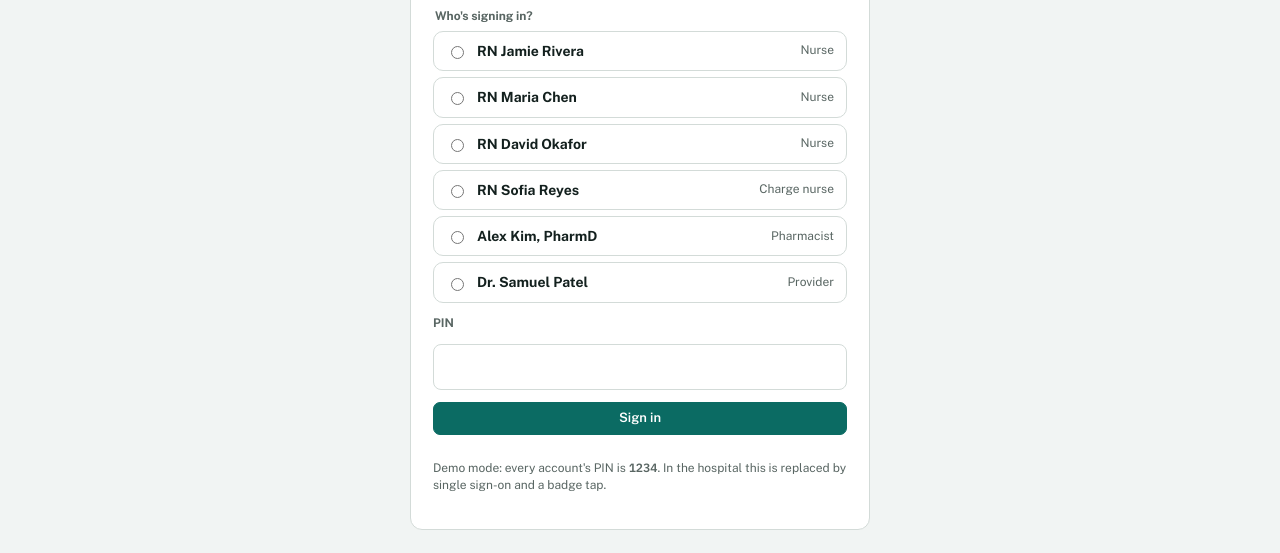
Scenario: Safer alternatives and look-alike names › offers acetaminophen when ibuprofen is not compatible
Click the radio button labelled "Dr. Samuel Patel Provider".
click(458, 284)  # box [451,278,464,291]
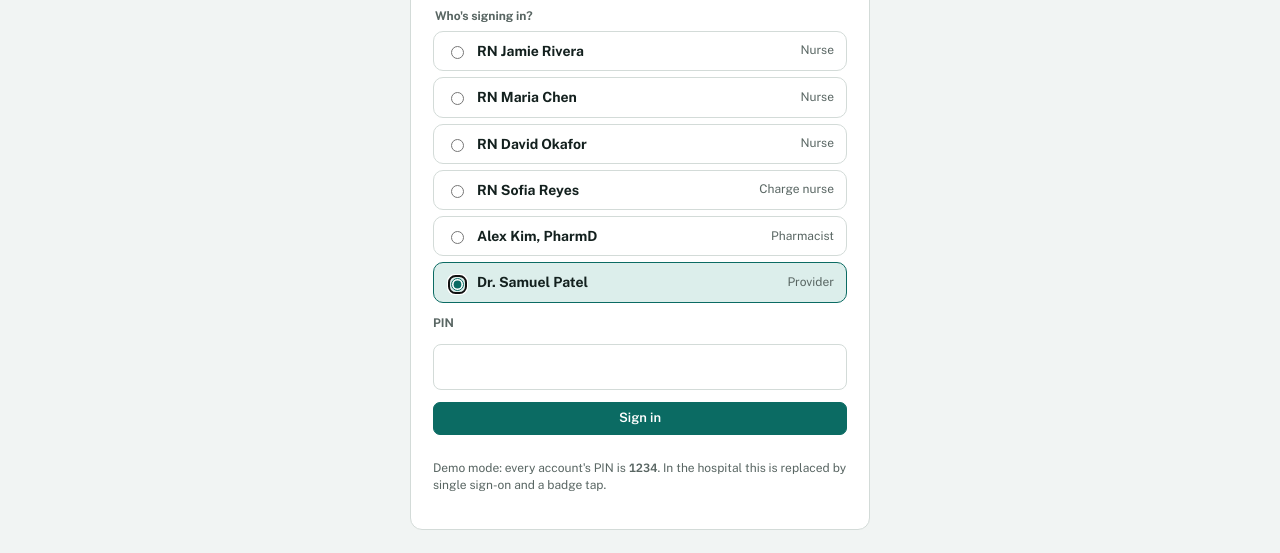
Type "1234" into the password field labelled "PIN".
click(640, 367); type("1234")  # box [433,344,847,390]
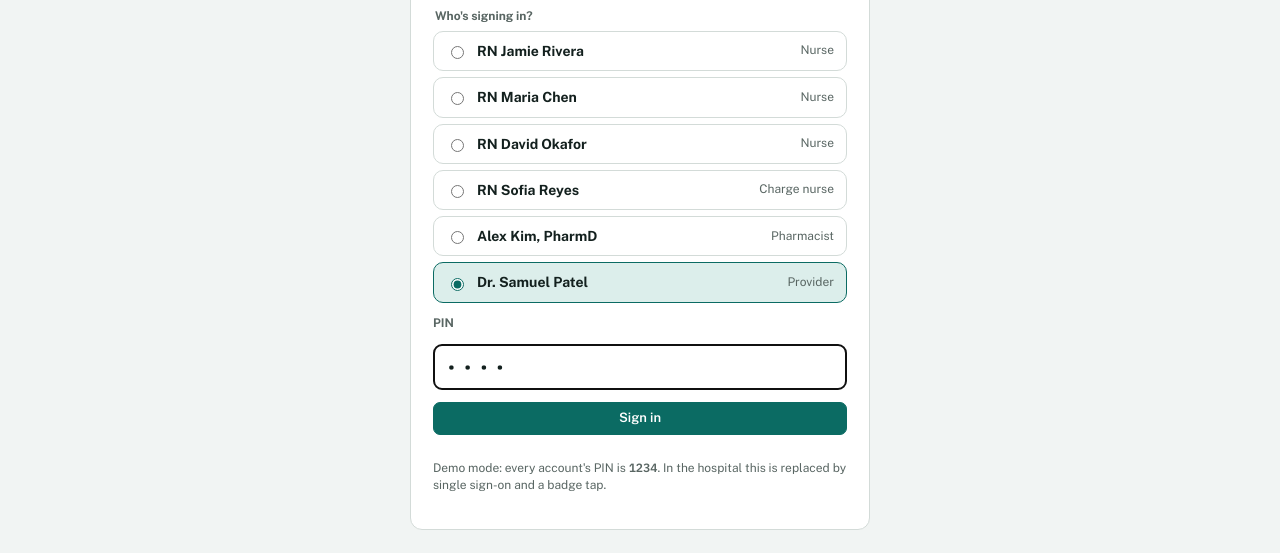
Click the button "Sign in".
click(640, 419)  # box [433,402,847,435]
(page scrolled)
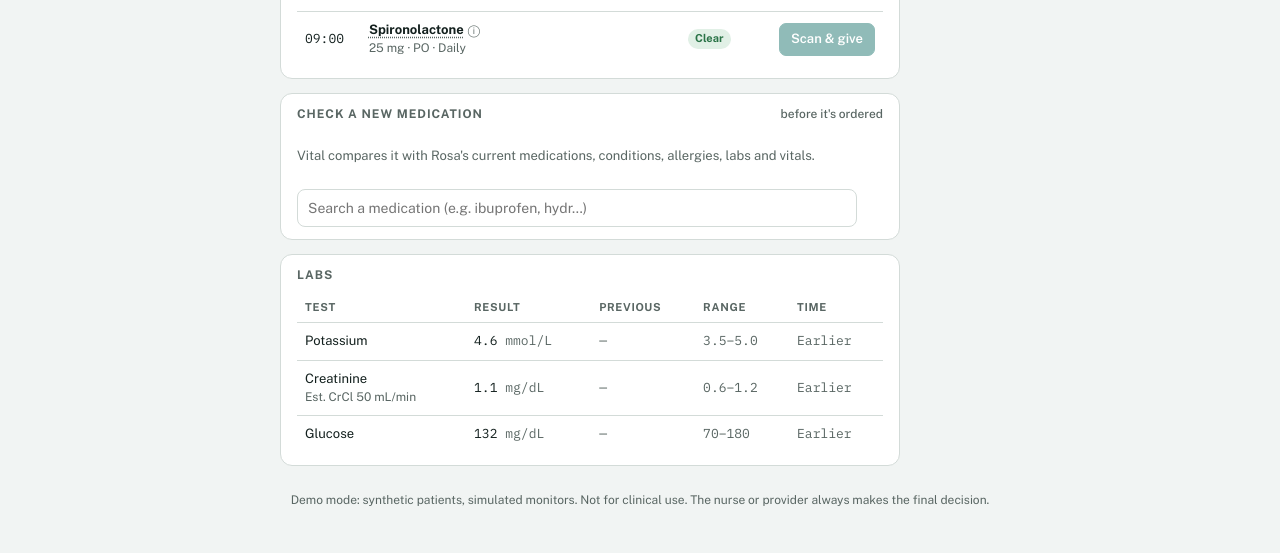
Type "ibupro" into the dropdown labelled "Search a medication".
click(577, 208); type("ibupro")  # box [297,188,857,227]
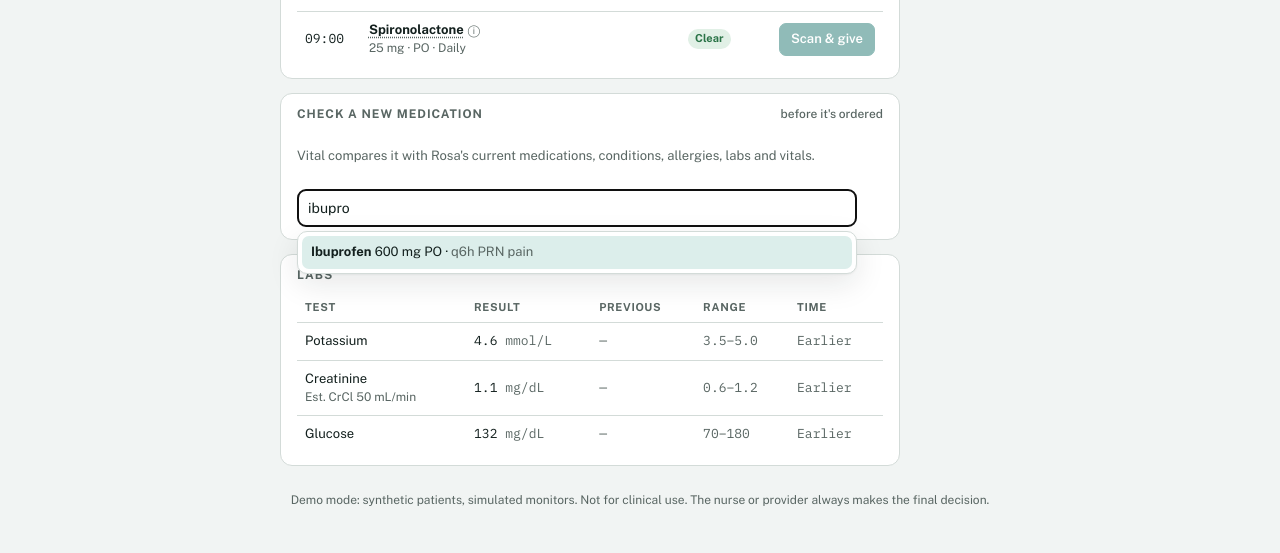
Click the option "Ibuprofen 600 mg PO · q6h PRN pain".
click(341, 251)  # box [302,236,852,269]
(page scrolled)
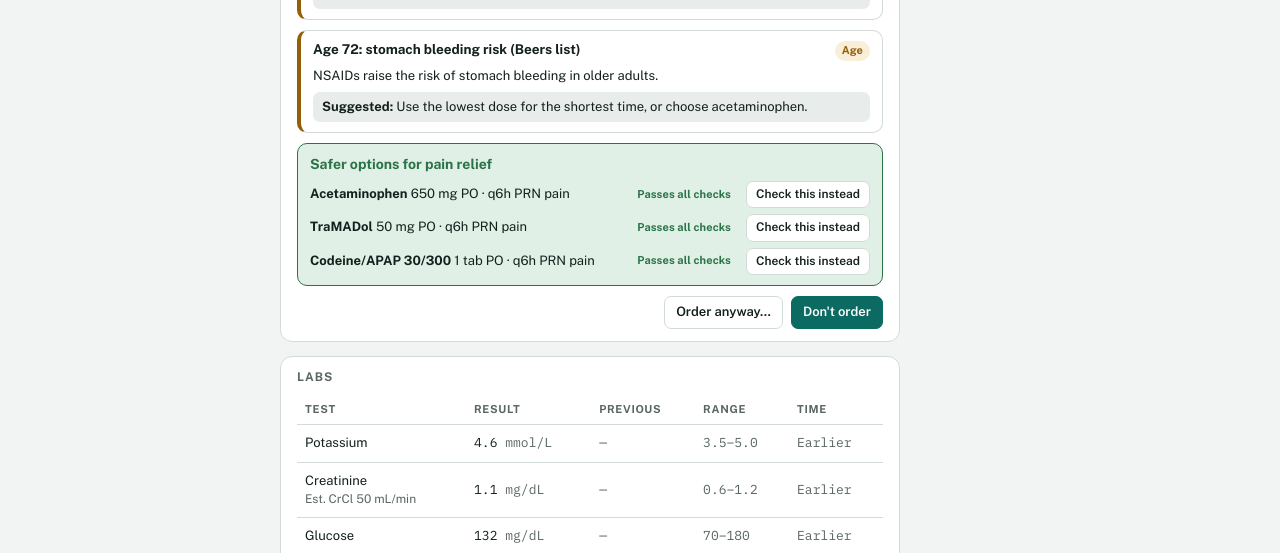
Check: the text "Safer options for pain relief" is shown, box [310,156,492,172]
Check: the text "Acetaminophen" is shown, box [310,186,408,201]
